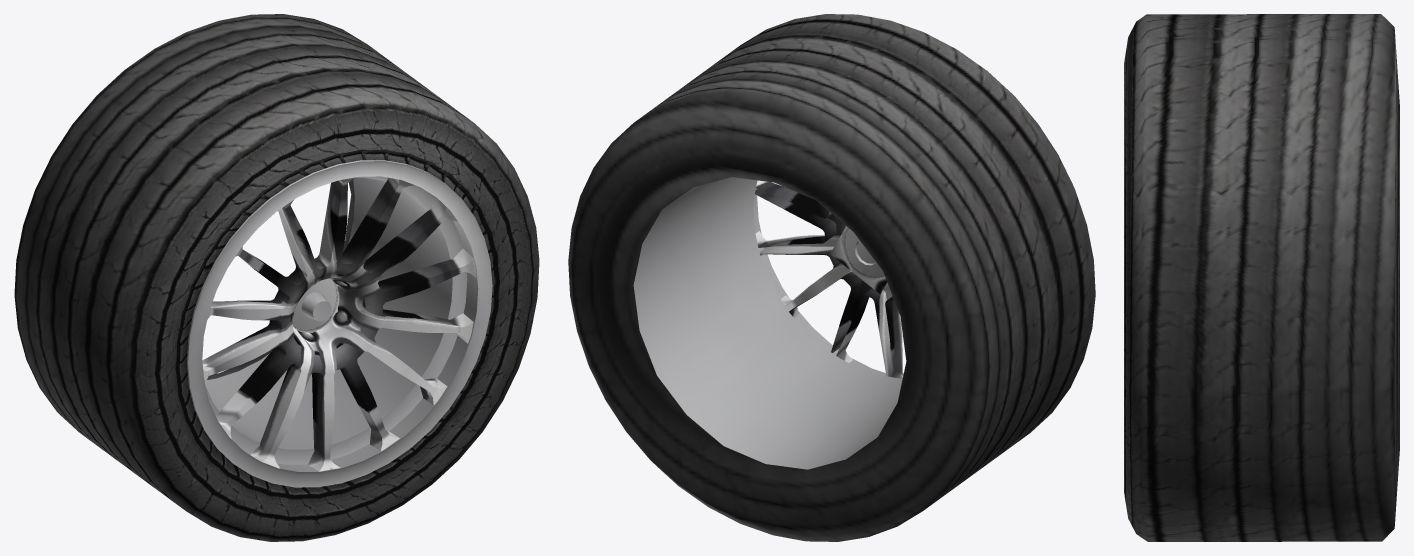
File: llanta_texturizada_izquierda.obj
3 views of the same model, side by side, from view 1: azimuth 30°, elevation 25°; view 2: azimuth 150°, elevation 25°; view 3: azimuth 270°, elevation 25° (orthographic). The views are drawn at different scales.
Visible parts, largest first — view 1: wheel_rf_001_dbl_wheel_rf_002.003, wheel_rf_001_dbl_wheel_rf_001.003; view 2: wheel_rf_001_dbl_wheel_rf_002.003, wheel_rf_001_dbl_wheel_rf_001.003; view 3: wheel_rf_001_dbl_wheel_rf_002.003.
Part boxes in pixels (x1,y1,x2,y2): wheel_rf_001_dbl_wheel_rf_002.003: [14, 14, 539, 541]; wheel_rf_001_dbl_wheel_rf_001.003: [186, 160, 492, 487]; wheel_rf_001_dbl_wheel_rf_002.003: [568, 14, 1095, 541]; wheel_rf_001_dbl_wheel_rf_001.003: [633, 177, 903, 469]; wheel_rf_001_dbl_wheel_rf_002.003: [1124, 14, 1399, 541].
Size of the model in its own units: 0.6692 by 0.6695 by 0.3494.
